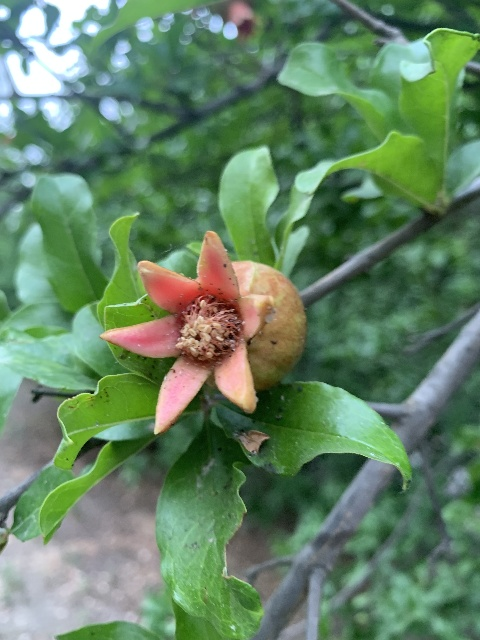early-fruit: (98, 230, 306, 436)
